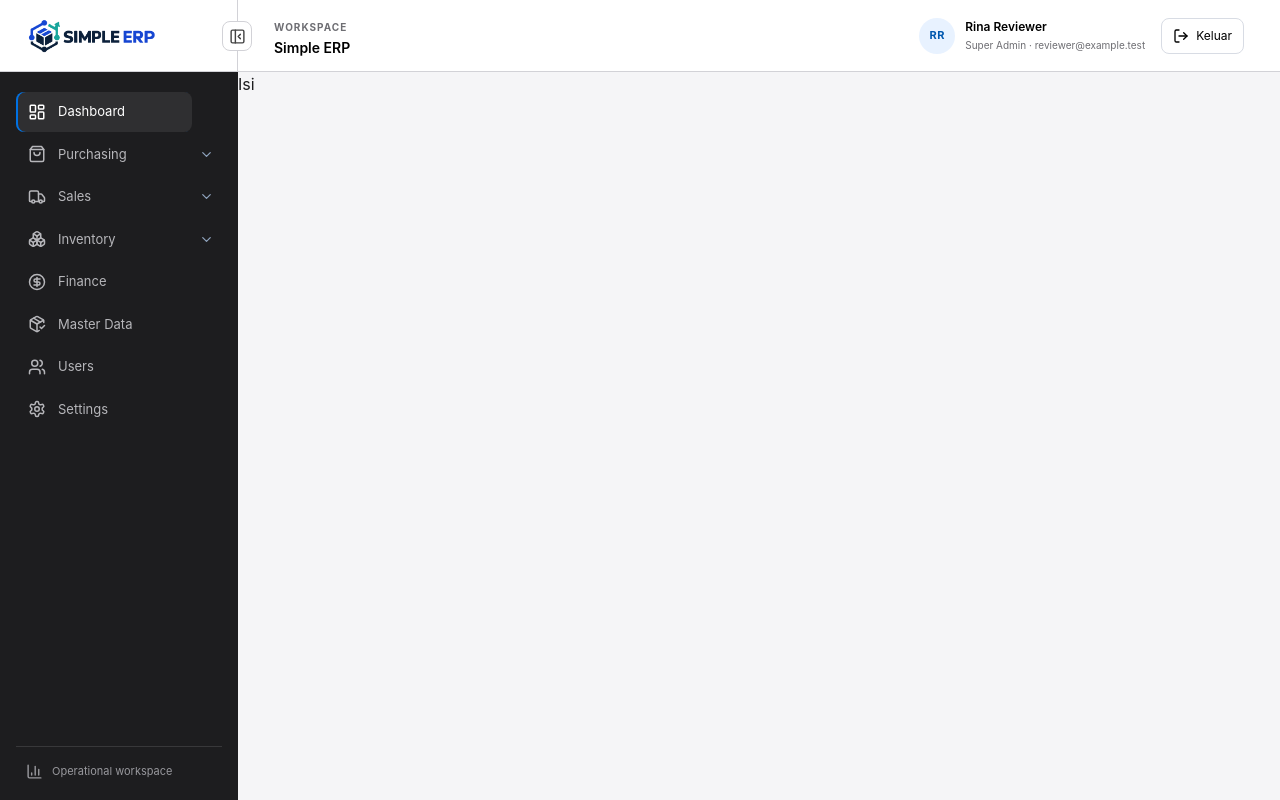
Test: application shell › keeps the session when logout fails
Click the button "Keluar" at [1203, 36], box top-left (1161, 18), bottom-right (1244, 54)
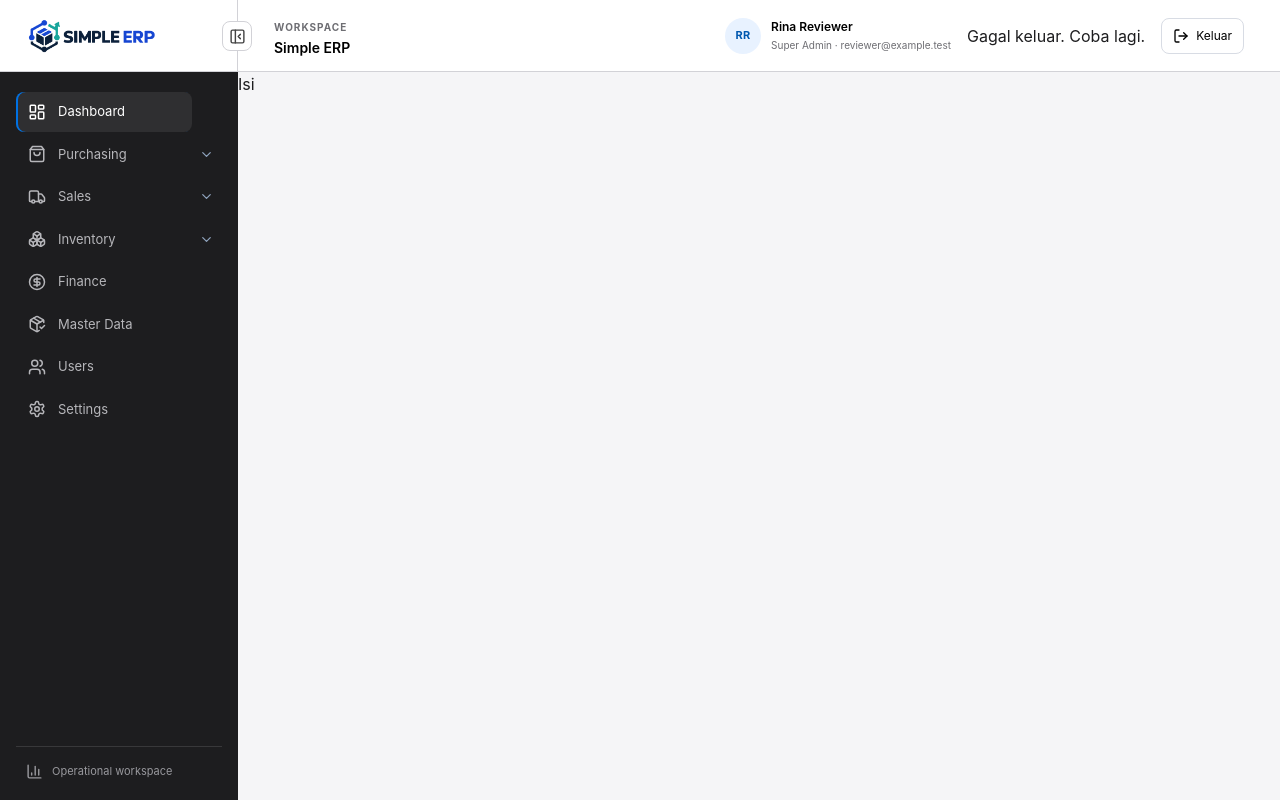
Expected: the message shows "Gagal keluar", top-left (967, 26), bottom-right (1145, 46)
